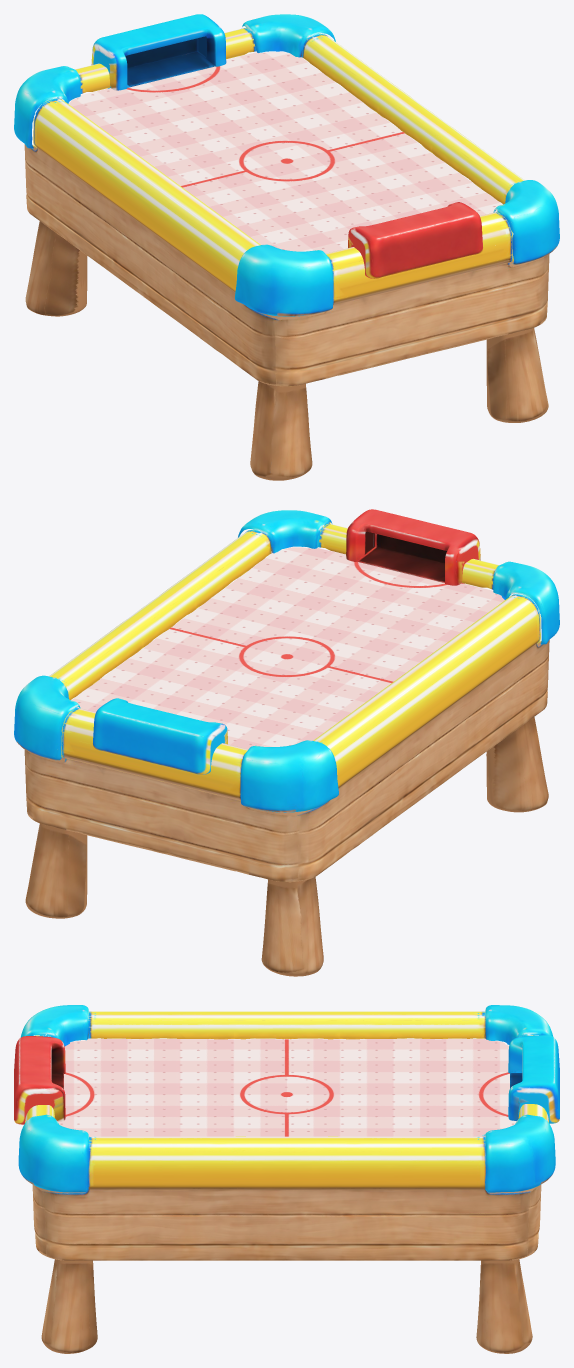
File: table-picnic.glb
3 renders of one model, top to bottom at view 1: azimuth 30°, elevation 25°; view 2: azimuth 150°, elevation 25°; view 3: azimuth 270°, elevation 25°, orthographic. The views are drawn at different scales.
Parts seen in each view (by area): view 1: table; view 2: table; view 3: table.
Part boxes in pixels (bbox=[...]): table: bbox=[14, 14, 559, 480]; table: bbox=[14, 509, 559, 976]; table: bbox=[14, 1005, 559, 1353].
Size of the model in its own units: 7.88 by 5.68 by 12.31.
Materials: 2 (2 with a texture image).
